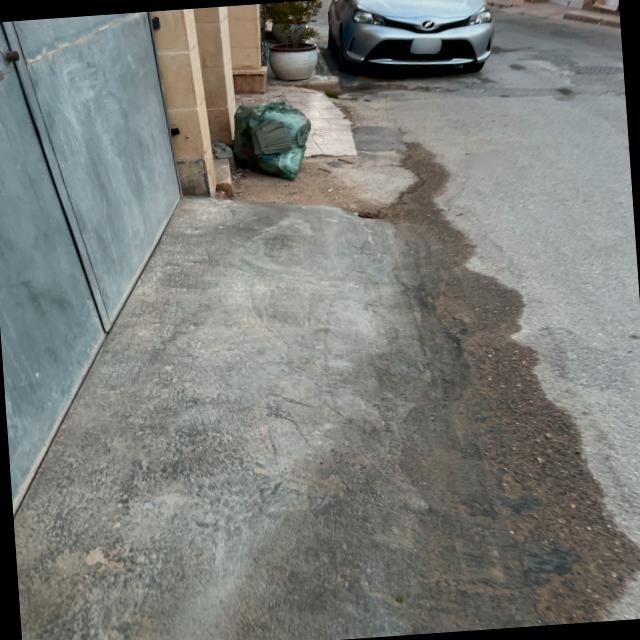grey_bag: (224, 95, 318, 184)
